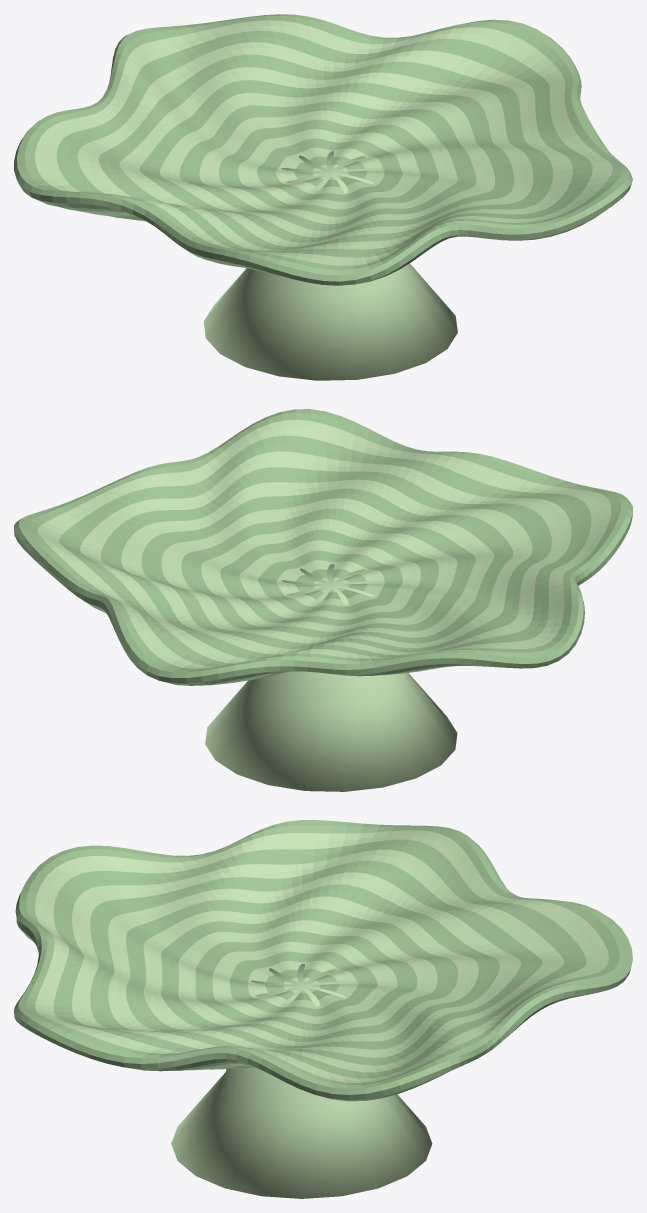
File: coral_brain.glb
3 views of the same model, one above another, from view 1: azimuth 30°, elevation 25°; view 2: azimuth 150°, elevation 25°; view 3: azimuth 270°, elevation 25° (orthographic). The views are drawn at different scales.
Parts seen in each view (by area): view 1: coral_brain; view 2: coral_brain; view 3: coral_brain.
Boxes of the visible parts, x1,y1,x2,y2 form: coral_brain: (14, 14, 632, 380); coral_brain: (14, 409, 632, 791); coral_brain: (14, 820, 632, 1198).
Bounding box in the file's own units: 0.7334 × 0.2562 × 0.7106.
